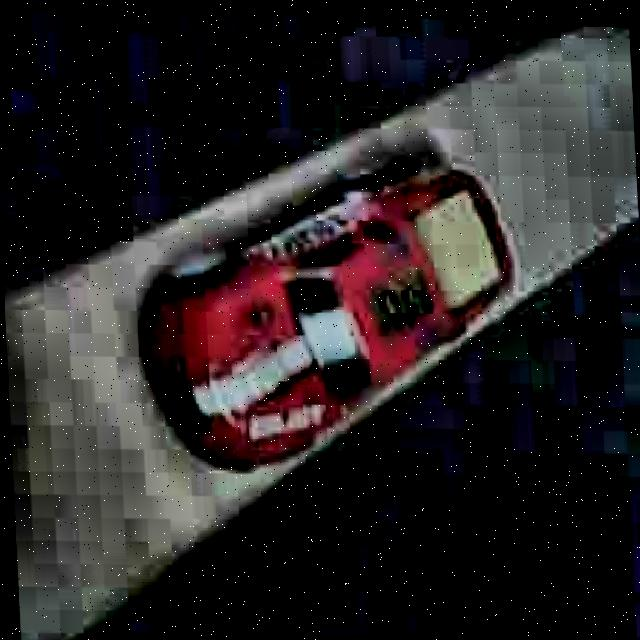car: (123, 135, 529, 490)
